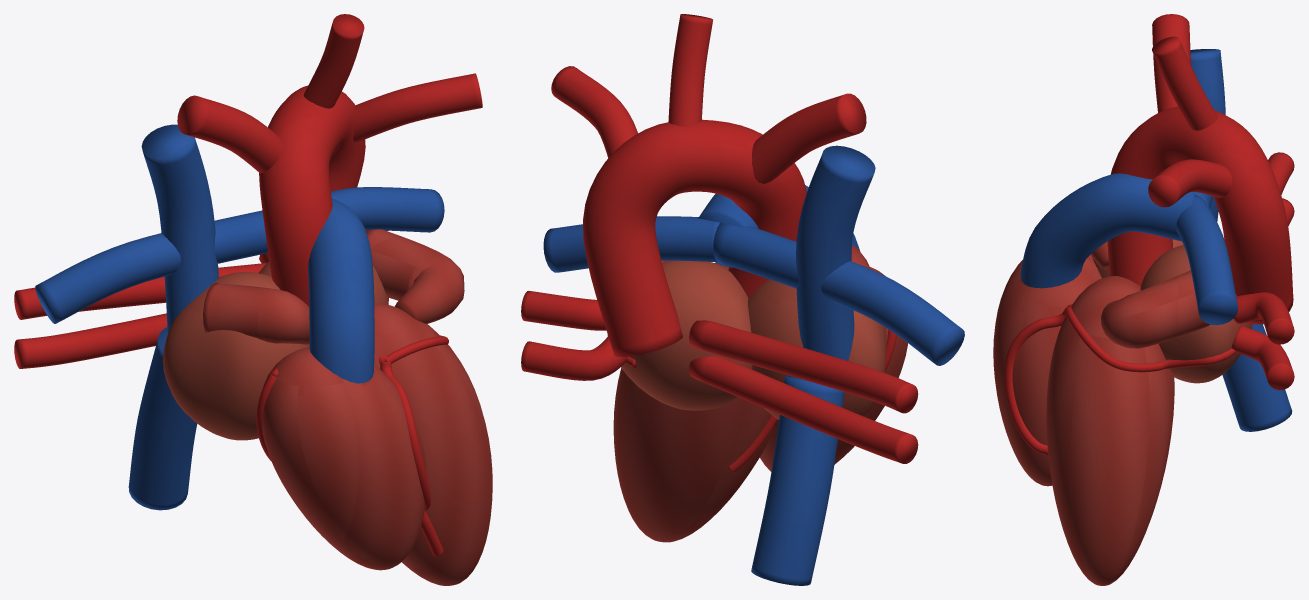
The model's file is heart-with-major-blood-vessels.glb.
3 renders of one model, left to right at view 1: azimuth 30°, elevation 25°; view 2: azimuth 150°, elevation 25°; view 3: azimuth 270°, elevation 25°, orthographic. The views are drawn at different scales.
Parts seen in each view (by area): view 1: Right ventricle anterior crescent, Left ventricle tapering to leftward apex, Ascending aorta leftward arch descending aorta, Right atrium and auricular outline, Pulmonary trunk from right ventricle, Superior vena cava returning to right atrium, Right pulmonary artery oxygen-poor, Inferior vena cava returning to right atrium, Left auricular appendage, Right auricular appendage, Left subclavian origin, Right inferior pulmonary vein oxygen-rich (+6 smaller); view 2: Ascending aorta leftward arch descending aorta, Left ventricle tapering to leftward apex, Inferior vena cava returning to right atrium, Superior vena cava returning to right atrium, Right pulmonary artery oxygen-poor, Left atrium posterior body, Right inferior pulmonary vein oxygen-rich, Right superior pulmonary vein oxygen-rich, Right atrium and auricular outline, Brachiocephalic arterial trunk, Left pulmonary artery oxygen-poor, Left common carotid origin (+6 smaller); view 3: Left ventricle tapering to leftward apex, Ascending aorta leftward arch descending aorta, Pulmonary trunk from right ventricle, Right ventricle anterior crescent, Left auricular appendage, Left pulmonary artery oxygen-poor, Left atrium posterior body, Inferior vena cava returning to right atrium, Left common carotid origin, Left subclavian origin, Left inferior pulmonary vein oxygen-rich, Left superior pulmonary vein oxygen-rich (+5 smaller).
Part boxes in pixels (x1,y1,x2,y2): Right ventricle anterior crescent: (262, 347, 426, 570); Left ventricle tapering to leftward apex: (374, 303, 492, 585); Ascending aorta leftward arch descending aorta: (259, 85, 365, 306); Right atrium and auricular outline: (163, 272, 309, 440); Pulmonary trunk from right ventricle: (308, 198, 374, 383); Superior vena cava returning to right atrium: (141, 124, 218, 333); Right pulmonary artery oxygen-poor: (35, 210, 267, 323); Inferior vena cava returning to right atrium: (128, 327, 197, 510); Left auricular appendage: (366, 229, 464, 323); Right auricular appendage: (203, 283, 309, 344); Left subclavian origin: (353, 73, 482, 142); Right inferior pulmonary vein oxygen-rich: (14, 313, 167, 368); Ascending aorta leftward arch descending aorta: (583, 119, 806, 357); Left ventricle tapering to leftward apex: (613, 263, 773, 542); Inferior vena cava returning to right atrium: (751, 375, 844, 585); Superior vena cava returning to right atrium: (796, 145, 875, 360); Right pulmonary artery oxygen-poor: (713, 222, 964, 365); Left atrium posterior body: (607, 260, 752, 410); Right inferior pulmonary vein oxygen-rich: (689, 356, 918, 463); Right superior pulmonary vein oxygen-rich: (689, 320, 918, 413); Right atrium and auricular outline: (748, 279, 886, 419); Brachiocephalic arterial trunk: (751, 93, 866, 183); Left pulmonary artery oxygen-poor: (543, 216, 719, 272); Left common carotid origin: (668, 14, 712, 126); Left ventricle tapering to leftward apex: (1046, 276, 1174, 585); Ascending aorta leftward arch descending aorta: (1107, 106, 1293, 324); Pulmonary trunk from right ventricle: (1020, 173, 1194, 288); Right ventricle anterior crescent: (993, 255, 1101, 486); Left auricular appendage: (1101, 270, 1210, 348); Left pulmonary artery oxygen-poor: (1176, 195, 1238, 325); Left atrium posterior body: (1140, 245, 1252, 383); Inferior vena cava returning to right atrium: (1222, 324, 1292, 431); Left common carotid origin: (1152, 36, 1217, 130); Left subclavian origin: (1148, 159, 1232, 207); Left inferior pulmonary vein oxygen-rich: (1231, 325, 1294, 390); Left superior pulmonary vein oxygen-rich: (1233, 292, 1294, 344).
Size of the model in its own units: 0.1773 by 0.2262 by 0.1203.
4 materials, 4 textured.
